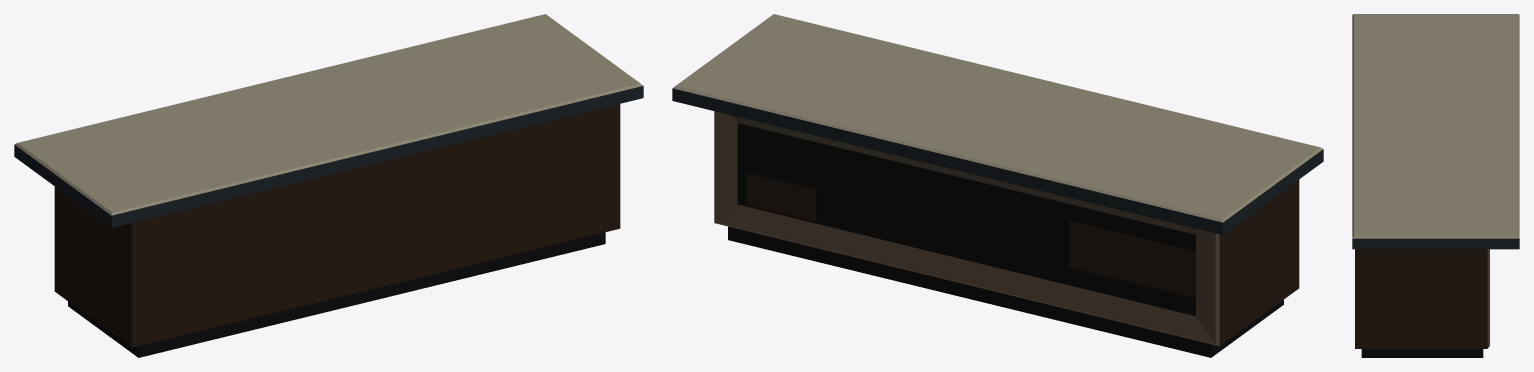
The model's file is lp_reception_counter.glb.
3 renders of one model, left to right at view 1: azimuth 30°, elevation 25°; view 2: azimuth 150°, elevation 25°; view 3: azimuth 270°, elevation 25°, orthographic. The views are drawn at different scales.
Parts seen in each view (by area): view 1: lp_reception_counter; view 2: lp_reception_counter; view 3: lp_reception_counter.
Part boxes in pixels (<box>): lp_reception_counter: <box>14,14,643,357</box>; lp_reception_counter: <box>672,14,1323,357</box>; lp_reception_counter: <box>1352,14,1519,357</box>.
Bounding box in the file's own units: 3.92 × 1.1 × 1.24.
Materials: 1 (1 with a texture image).
